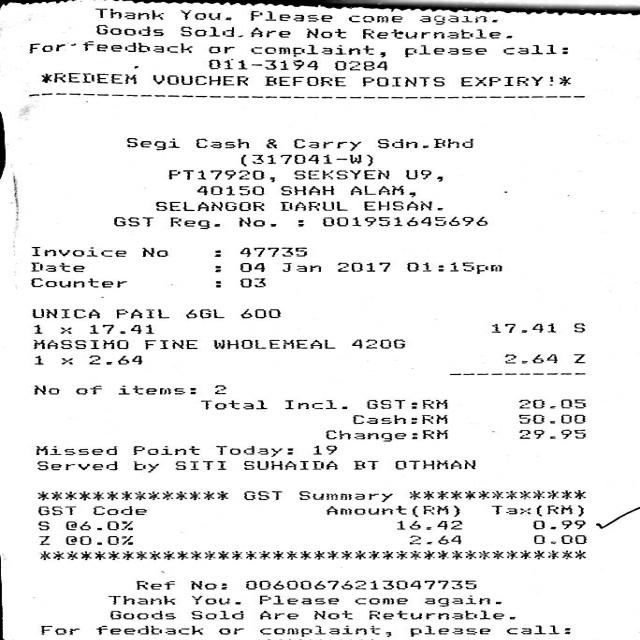text: (242, 579, 474, 589), (321, 215, 486, 226), (326, 504, 458, 516), (240, 154, 370, 166), (361, 28, 510, 38), (250, 44, 372, 56), (324, 429, 446, 441), (367, 609, 503, 619), (258, 625, 378, 636), (459, 75, 569, 86), (212, 338, 333, 348), (81, 41, 190, 52), (207, 58, 316, 69), (39, 72, 135, 84), (404, 261, 500, 273), (488, 504, 584, 516), (153, 201, 262, 211), (151, 74, 247, 85), (298, 490, 391, 501), (165, 169, 264, 179), (248, 10, 330, 22), (402, 44, 484, 56), (350, 414, 448, 424), (28, 277, 125, 287), (94, 625, 201, 634), (30, 338, 126, 348), (292, 168, 387, 178), (29, 246, 124, 256), (262, 75, 343, 86), (407, 625, 488, 636), (362, 199, 441, 210), (347, 184, 413, 197), (214, 445, 291, 456), (241, 460, 335, 469), (33, 445, 116, 455), (255, 594, 338, 604), (92, 7, 161, 19), (361, 76, 443, 86), (93, 24, 161, 36), (292, 138, 359, 150), (415, 14, 495, 24), (35, 460, 115, 470), (115, 384, 194, 394), (394, 459, 473, 469), (423, 594, 488, 606), (238, 246, 308, 257), (365, 399, 448, 408), (396, 519, 462, 530), (27, 260, 84, 272), (29, 308, 97, 318), (515, 398, 583, 408), (86, 323, 152, 333), (500, 44, 565, 54), (488, 322, 553, 332), (200, 399, 265, 409), (280, 200, 344, 210), (177, 26, 240, 36), (126, 137, 177, 149), (515, 414, 583, 423), (515, 429, 583, 438), (105, 595, 173, 604), (65, 520, 131, 529), (65, 535, 131, 544), (132, 445, 197, 454), (503, 624, 568, 633), (348, 338, 404, 348), (332, 60, 386, 70), (113, 308, 167, 318), (501, 353, 555, 363), (284, 399, 344, 408), (194, 186, 261, 194), (193, 138, 246, 148), (334, 261, 387, 271), (87, 354, 140, 364), (408, 534, 461, 544), (107, 610, 173, 618), (177, 9, 229, 19), (143, 339, 195, 349), (532, 519, 583, 529), (168, 216, 210, 228), (376, 138, 426, 148), (189, 594, 239, 604), (92, 505, 145, 514), (26, 43, 73, 53), (173, 460, 225, 469), (532, 534, 584, 543), (345, 14, 400, 22), (304, 27, 343, 38), (188, 610, 241, 618), (280, 186, 331, 194), (110, 216, 150, 226), (182, 308, 222, 318), (238, 308, 278, 318), (250, 27, 289, 37), (242, 490, 281, 500), (430, 138, 470, 147), (134, 580, 173, 589), (38, 625, 77, 634), (280, 262, 318, 271), (351, 598, 405, 604), (311, 610, 351, 618), (258, 610, 297, 618), (35, 506, 73, 514), (187, 580, 225, 588), (236, 216, 266, 226), (237, 262, 266, 272), (72, 384, 100, 394), (131, 461, 156, 472), (237, 277, 264, 287), (31, 384, 57, 394), (310, 444, 335, 454), (140, 247, 167, 256), (350, 460, 375, 469), (404, 170, 430, 178), (207, 45, 232, 53), (216, 627, 242, 634), (34, 520, 49, 529), (31, 323, 43, 334), (572, 352, 584, 363), (32, 354, 44, 364), (212, 384, 224, 394), (36, 536, 50, 544), (264, 138, 275, 148), (58, 357, 73, 364), (58, 326, 71, 334), (573, 322, 583, 332)
